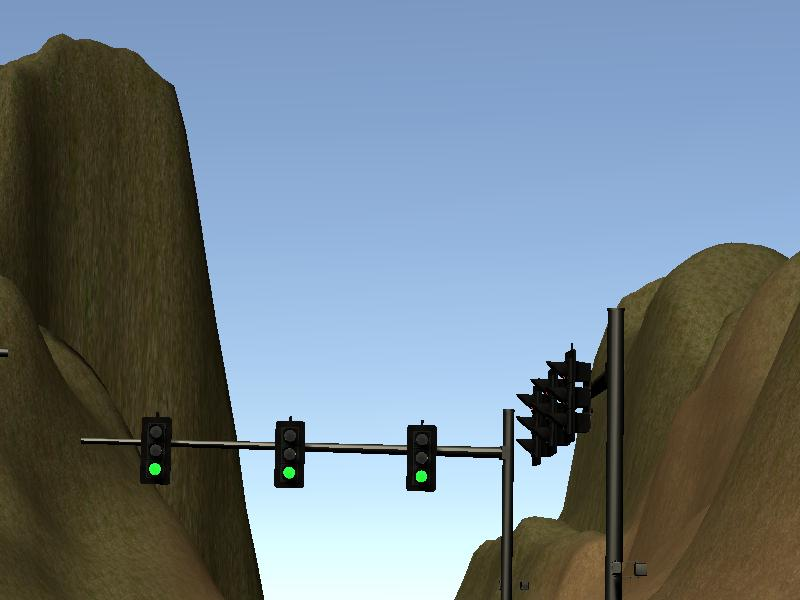Green: (408, 425, 437, 492), (141, 416, 169, 482), (277, 418, 304, 485)
